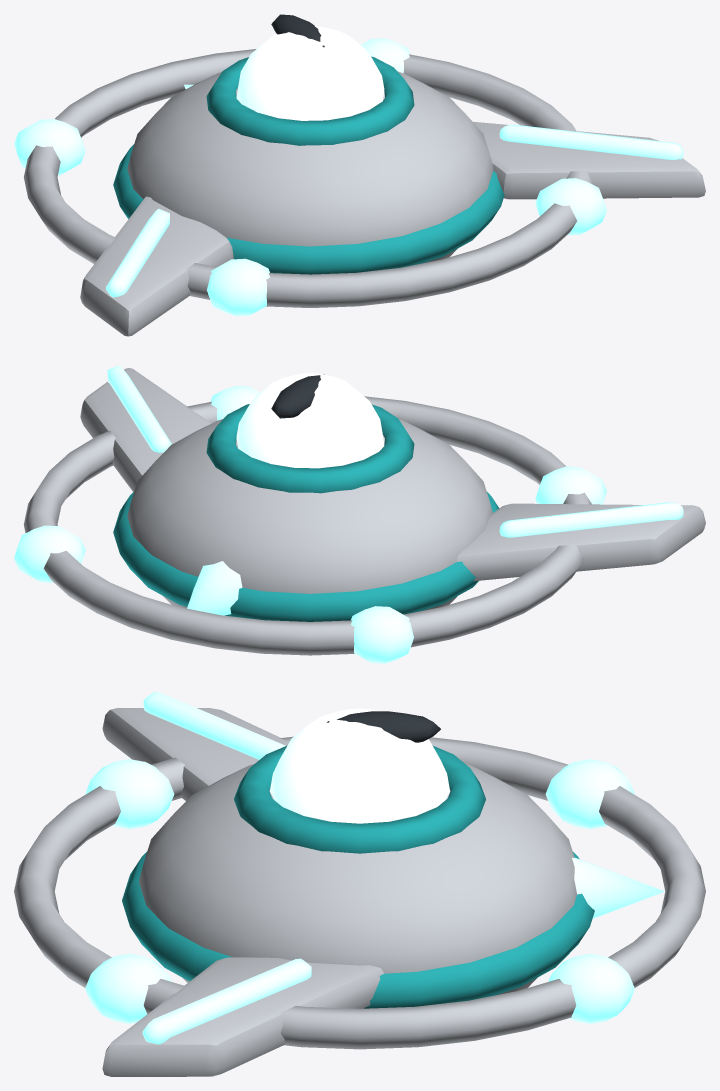
Rendered from drone.glb.
The picture shows the model from 3 angles, top to bottom: view 1: azimuth 30°, elevation 25°; view 2: azimuth 150°, elevation 25°; view 3: azimuth 270°, elevation 25°; orthographic projection. The views are drawn at different scales.
Visible parts, largest first — view 1: drone, ring; view 2: drone, ring; view 3: drone, ring.
Boxes of the visible parts, x1=… form: drone: x1=80, y1=14, x2=705, y2=336; ring: x1=14, y1=38, x2=606, y2=316; drone: x1=80, y1=365, x2=705, y2=621; ring: x1=14, y1=386, x2=606, y2=663; drone: x1=102, y1=692, x2=664, y2=1076; ring: x1=14, y1=736, x2=705, y2=1049.
Bounding box in the file's own units: 0.3984 × 0.156 × 0.34.
